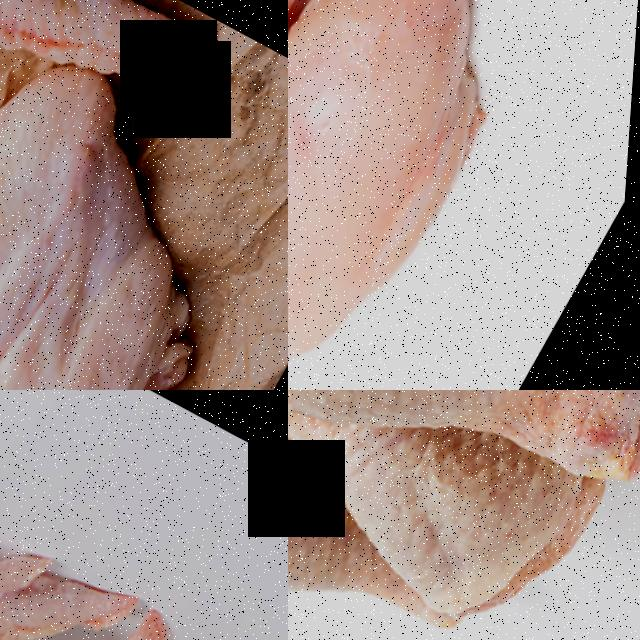chicken breast: (288, 0, 611, 390)
chicken thigh: (288, 390, 640, 570)
chicken wing: (0, 0, 275, 390), (0, 0, 102, 255), (0, 500, 147, 640), (23, 584, 276, 640)
